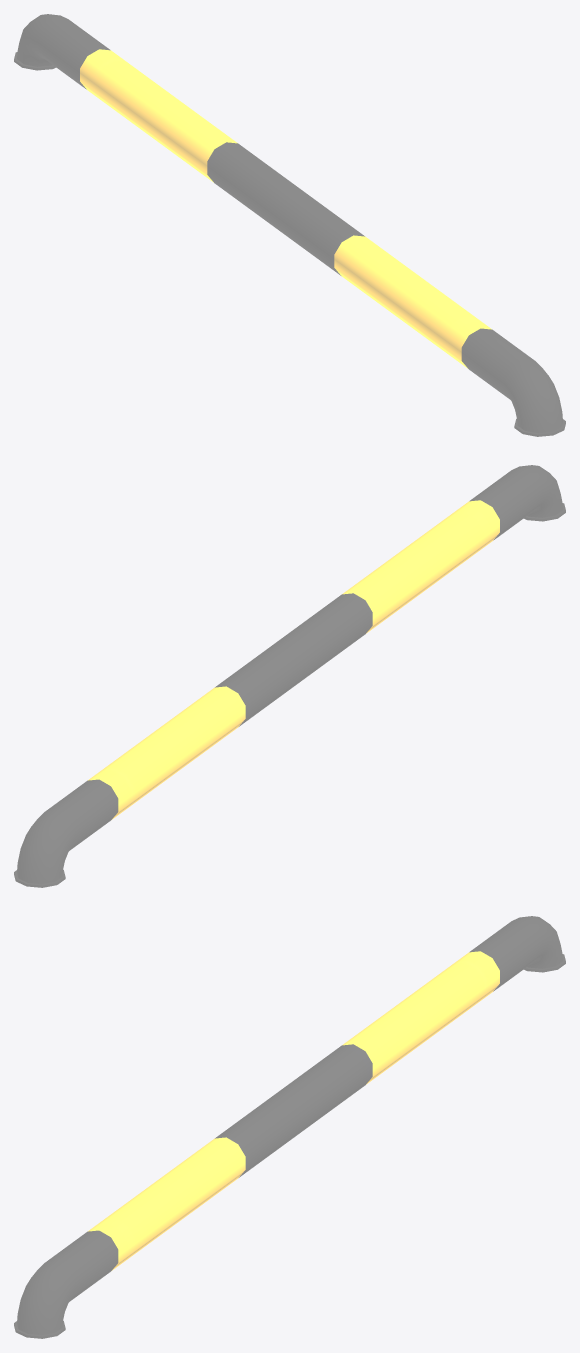
The model's file is Parking_Limit_Position_Pole_2m.glb.
3 renders of one model, top to bottom at view 1: azimuth 30°, elevation 25°; view 2: azimuth 150°, elevation 25°; view 3: azimuth 330°, elevation 25°, orthographic.
Parts seen in each view (by area): view 1: Parking_Limit_Position_Pole_2m; view 2: Parking_Limit_Position_Pole_2m; view 3: Parking_Limit_Position_Pole_2m.
Part boxes in pixels (left/top/right/bottom): Parking_Limit_Position_Pole_2m: left=14, top=14, right=565, bottom=436; Parking_Limit_Position_Pole_2m: left=14, top=465, right=565, bottom=887; Parking_Limit_Position_Pole_2m: left=14, top=916, right=565, bottom=1338.
Size of the model in its own units: 0.0948 by 0.1124 by 1.99.
1 material, 1 textured.
